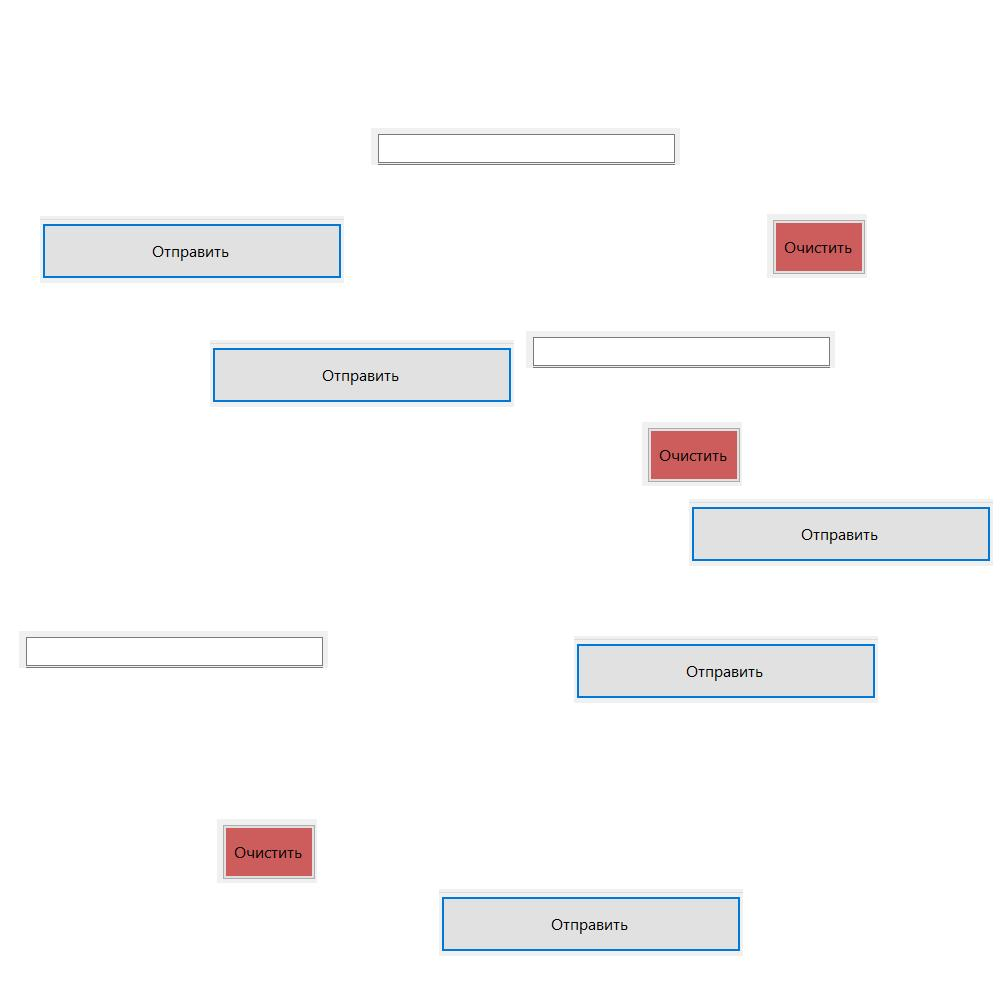Button: (689, 499, 993, 566), (40, 216, 344, 283), (210, 340, 514, 407), (439, 889, 743, 956), (574, 636, 878, 703), (642, 422, 742, 486), (767, 214, 867, 278), (217, 819, 317, 883)
EditText-: (526, 331, 835, 368), (19, 631, 328, 668), (371, 128, 680, 165)
